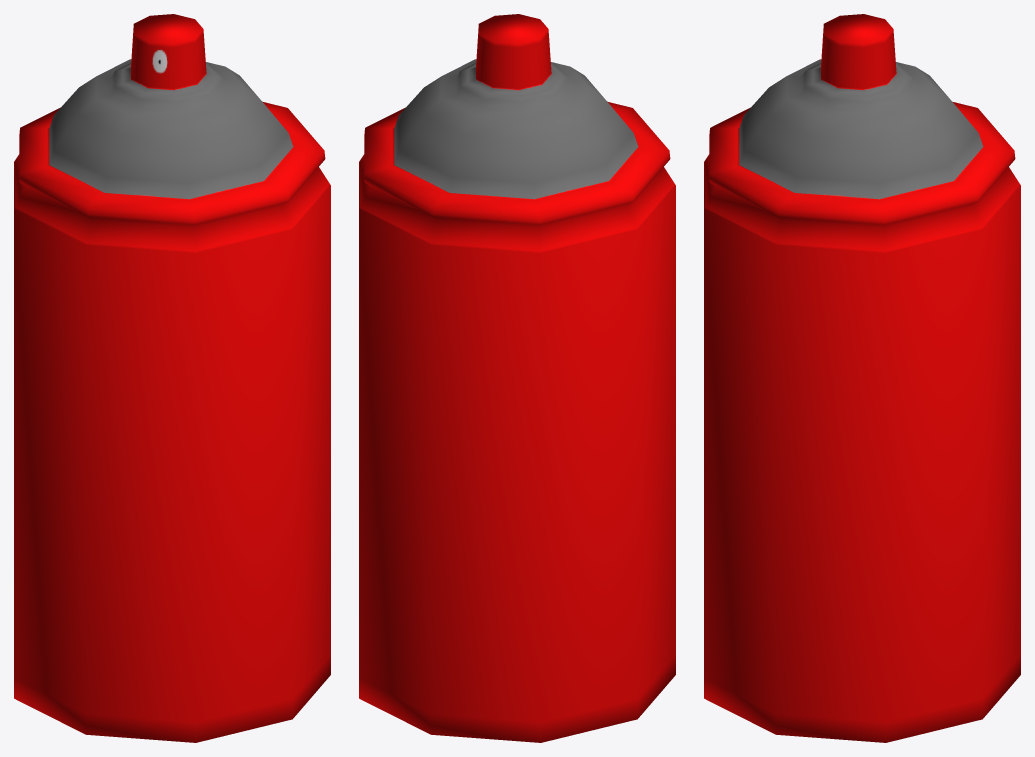
Rendered from Red_can.gltf.
3 renders of one model, left to right at view 1: azimuth 30°, elevation 25°; view 2: azimuth 150°, elevation 25°; view 3: azimuth 270°, elevation 25°, orthographic.
Visible parts, largest first — view 1: Cylinder.007; view 2: Cylinder.007; view 3: Cylinder.007.
Part boxes in pixels (x1=…): Cylinder.007: x1=14, y1=14, x2=330, y2=742; Cylinder.007: x1=359, y1=14, x2=675, y2=742; Cylinder.007: x1=704, y1=14, x2=1020, y2=742.
Size of the model in its own units: 0.1543 by 0.3419 by 0.1519.
Materials: 1 (1 with a texture image).
